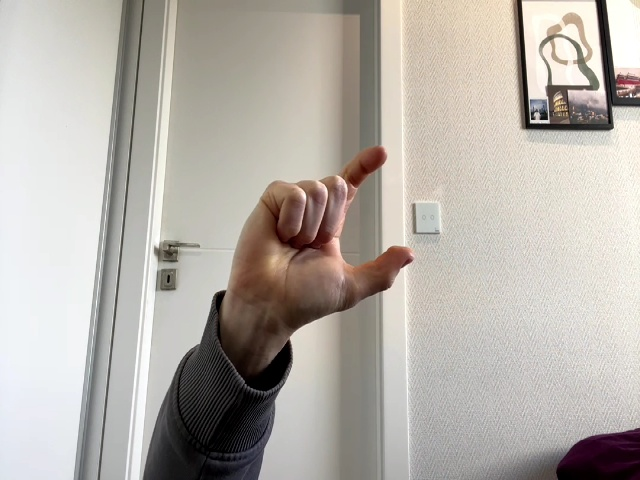C: (230, 147, 414, 329)
